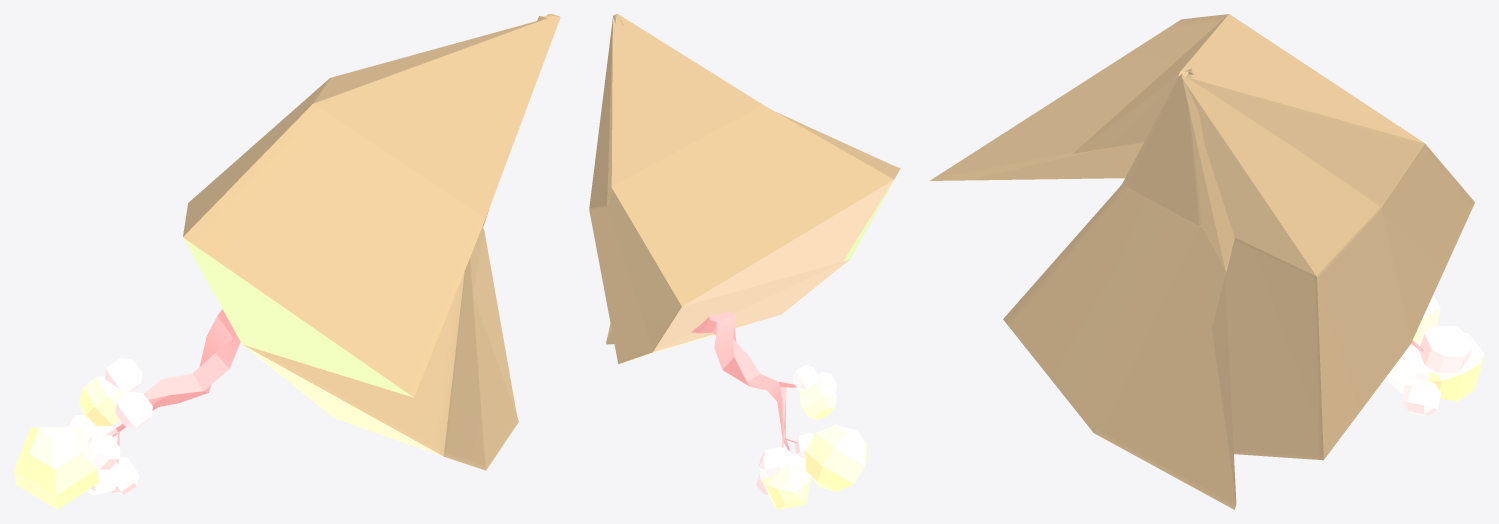
Rendered from chunk8.fbx.
The picture shows the model from 3 angles, left to right: view 1: azimuth 30°, elevation 25°; view 2: azimuth 150°, elevation 25°; view 3: azimuth 270°, elevation 25°; orthographic projection. The views are drawn at different scales.
Visible parts, largest first — view 1: chunk8; view 2: chunk8; view 3: chunk8.
Part boxes in pixels (x1,y1,x2,y2): chunk8: (14, 14, 560, 509); chunk8: (589, 14, 900, 509); chunk8: (930, 14, 1484, 509).
Bounding box in the file's own units: 5.3 × 5.53 × 5.49.
